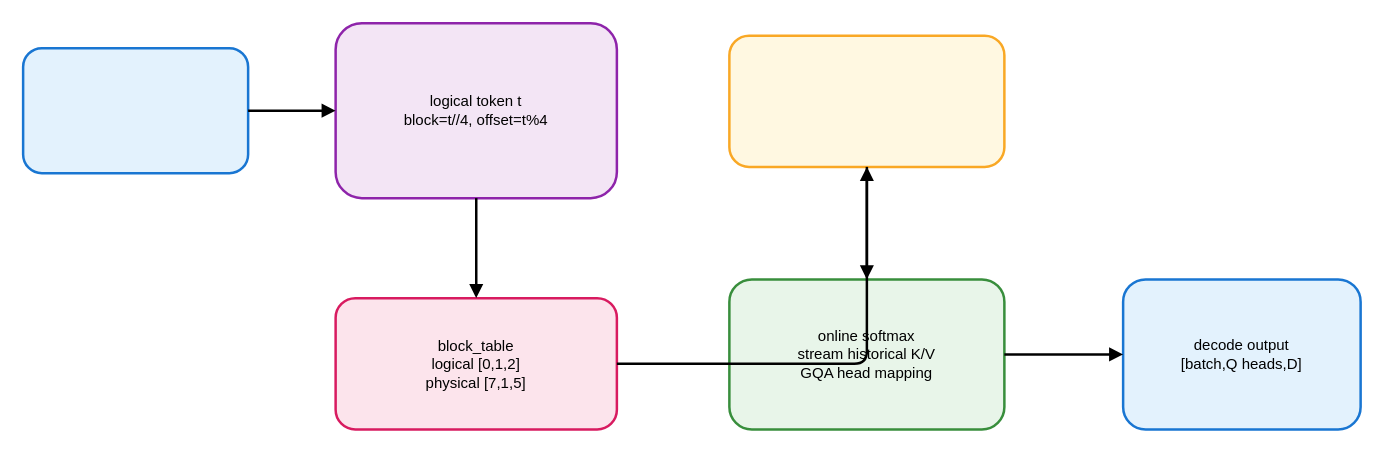
This 1383x451 diagram has some shape labels left out. The shapes that lost their labels are listed below. From the top down, each one's centre as x and y in pixels, then its label:
At point (135, 110): "one query / request context_len=10".
At point (866, 101): "cache[physical_block, offset, KV head, :]".
